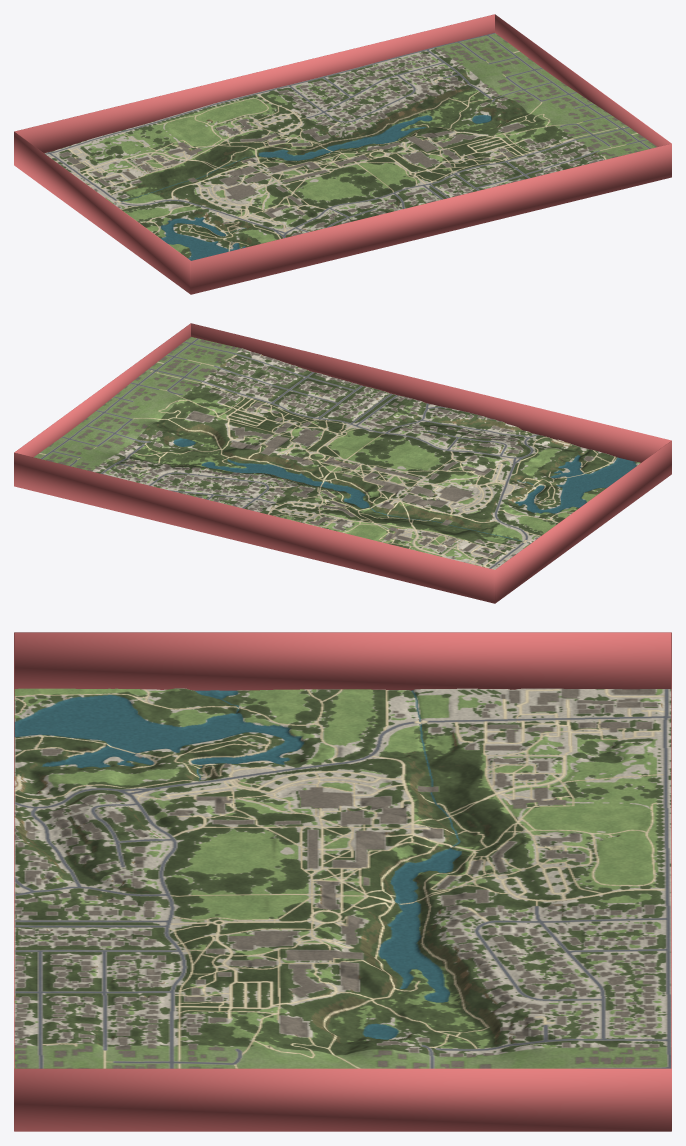
File: reed_terrain.glb
3 views of the same model, one above another, from view 1: azimuth 30°, elevation 25°; view 2: azimuth 150°, elevation 25°; view 3: azimuth 270°, elevation 25° (orthographic). The views are drawn at different scales.
Visible parts, largest first — view 1: T_EdgeWall_S, T_EdgeWall_N, T_Terrain_r0_c1, T_Terrain_r0_c3, T_Terrain_r0_c2, T_Terrain_r1_c1, T_Terrain_r1_c2, T_Terrain_r1_c3, T_EdgeWall_W, T_Terrain_r0_c0, T_Terrain_r1_c0, T_Terrain_r2_c3 (+4 smaller); view 2: T_EdgeWall_N, T_EdgeWall_S, T_Terrain_r1_c3, T_Terrain_r1_c1, T_Terrain_r2_c3, T_Terrain_r1_c2, T_Terrain_r2_c2, T_Terrain_r2_c1, T_EdgeWall_W, T_Terrain_r1_c0, T_Terrain_r2_c0, T_Terrain_r0_c3 (+4 smaller); view 3: T_EdgeWall_E, T_EdgeWall_W, T_Terrain_r1_c2, T_Terrain_r0_c2, T_Terrain_r2_c2, T_Terrain_r1_c1, T_Terrain_r0_c1, T_Terrain_r2_c1, T_Terrain_r2_c0, T_Terrain_r1_c0, T_Terrain_r0_c0, T_Terrain_r2_c3 (+2 smaller).
Part boxes in pixels (<box>): T_EdgeWall_S: <box>191,143,671,294</box>; T_EdgeWall_N: <box>14,14,494,153</box>; T_Terrain_r0_c1: <box>135,93,312,173</box>; T_Terrain_r0_c3: <box>375,33,553,111</box>; T_Terrain_r0_c2: <box>255,63,433,139</box>; T_Terrain_r1_c1: <box>193,139,371,214</box>; T_Terrain_r1_c2: <box>314,112,492,179</box>; T_Terrain_r1_c3: <box>434,76,611,148</box>; T_EdgeWall_W: <box>14,131,190,294</box>; T_Terrain_r0_c0: <box>44,127,192,196</box>; T_Terrain_r1_c0: <box>104,173,251,240</box>; T_Terrain_r2_c3: <box>493,116,656,177</box>; T_EdgeWall_N: <box>14,452,494,603</box>; T_EdgeWall_S: <box>191,323,671,462</box>; T_Terrain_r1_c3: <box>73,382,251,464</box>; T_Terrain_r1_c1: <box>314,446,492,525</box>; T_Terrain_r2_c3: <box>132,337,310,414</box>; T_Terrain_r1_c2: <box>193,414,371,491</box>; T_Terrain_r2_c2: <box>252,371,430,445</box>; T_Terrain_r2_c1: <box>373,404,550,479</box>; T_EdgeWall_W: <box>495,440,671,603</box>; T_Terrain_r1_c0: <box>434,480,580,549</box>; T_Terrain_r2_c0: <box>493,438,640,506</box>; T_Terrain_r0_c3: <box>34,428,192,486</box>; T_EdgeWall_E: <box>14,1068,671,1131</box>; T_EdgeWall_W: <box>14,632,671,690</box>; T_Terrain_r1_c2: <box>233,889,452,1007</box>; T_Terrain_r0_c2: <box>452,888,671,1007</box>; T_Terrain_r2_c2: <box>14,889,233,994</box>; T_Terrain_r1_c1: <box>233,788,452,899</box>; T_Terrain_r0_c1: <box>452,787,671,893</box>; T_Terrain_r2_c1: <box>14,789,233,893</box>; T_Terrain_r2_c0: <box>14,688,233,794</box>; T_Terrain_r1_c0: <box>233,689,452,795</box>; T_Terrain_r0_c0: <box>452,688,671,793</box>; T_Terrain_r2_c3: <box>14,994,233,1068</box>.
Bounding box in the file's own units: 1273 × 85.05 × 811.
2 materials, 1 textured.
